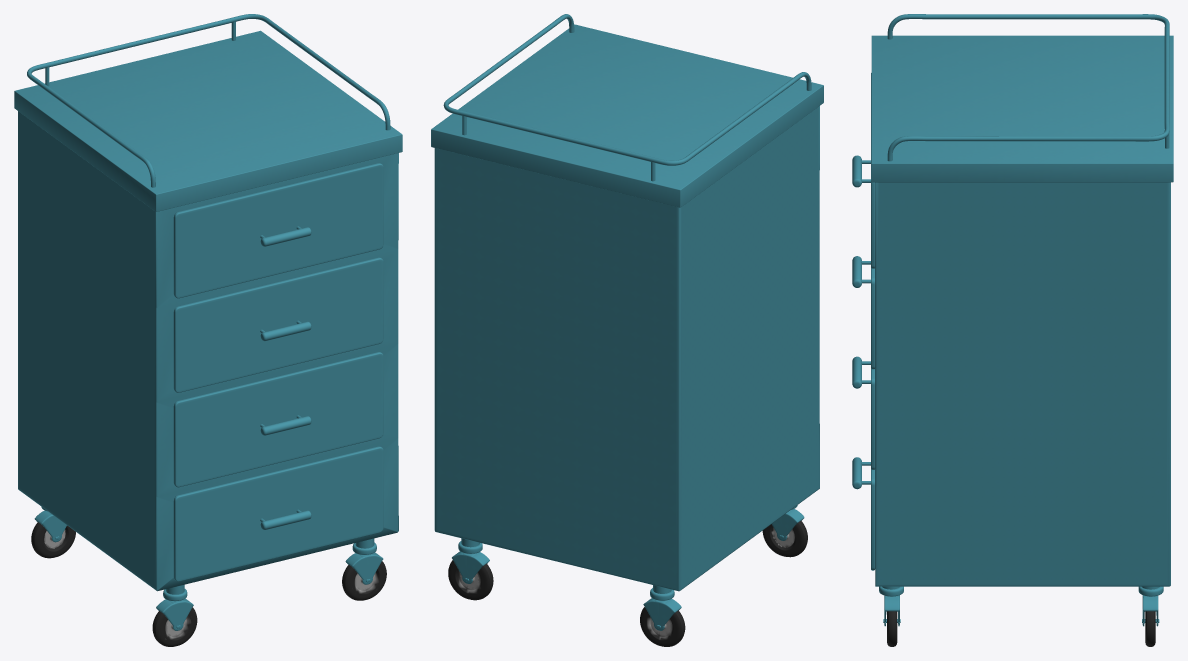
File: UtilityCart_01.fbx
3 renders of one model, left to right at view 1: azimuth 30°, elevation 25°; view 2: azimuth 150°, elevation 25°; view 3: azimuth 270°, elevation 25°, orthographic. The views are drawn at different scales.
Visible parts, largest first — view 1: UtilityCart_01; view 2: UtilityCart_01; view 3: UtilityCart_01.
Part boxes in pixels (left/top/right/bottom): UtilityCart_01: left=14, top=14, right=402, bottom=646; UtilityCart_01: left=431, top=14, right=823, bottom=646; UtilityCart_01: left=852, top=14, right=1173, bottom=646.
Size of the model in its own units: 44.31 by 83.76 by 46.92.
1 material, 1 textured.
